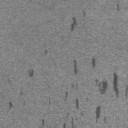red iron: (42, 58, 119, 128), (70, 10, 86, 32), (28, 69, 34, 78), (116, 3, 120, 11), (8, 102, 13, 108)
